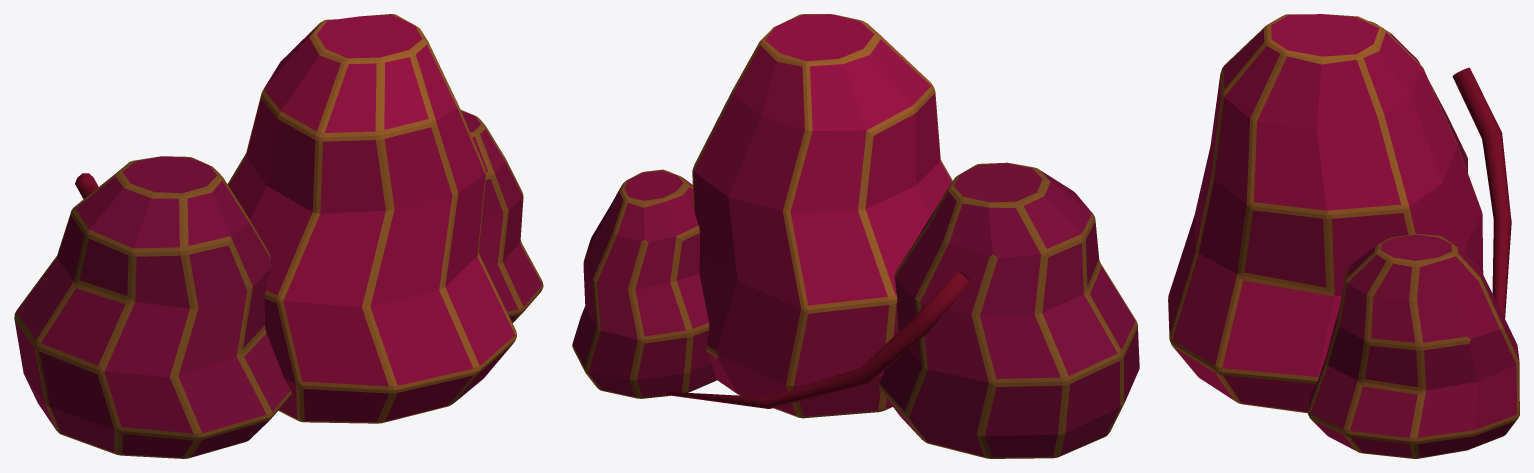
The model's file is SM_RV_RockBank.fbx.
The picture shows the model from 3 angles, left to right: view 1: azimuth 30°, elevation 25°; view 2: azimuth 150°, elevation 25°; view 3: azimuth 270°, elevation 25°; orthographic projection. The views are drawn at different scales.
Parts seen in each view (by area): view 1: SM_RV_RockBank; view 2: SM_RV_RockBank; view 3: SM_RV_RockBank.
Boxes of the visible parts, bbox=[...] form: SM_RV_RockBank: bbox=[14, 14, 543, 458]; SM_RV_RockBank: bbox=[572, 14, 1139, 458]; SM_RV_RockBank: bbox=[1168, 14, 1519, 458].
Size of what is drawn, in the model's own units: 383 by 665 by 405.
